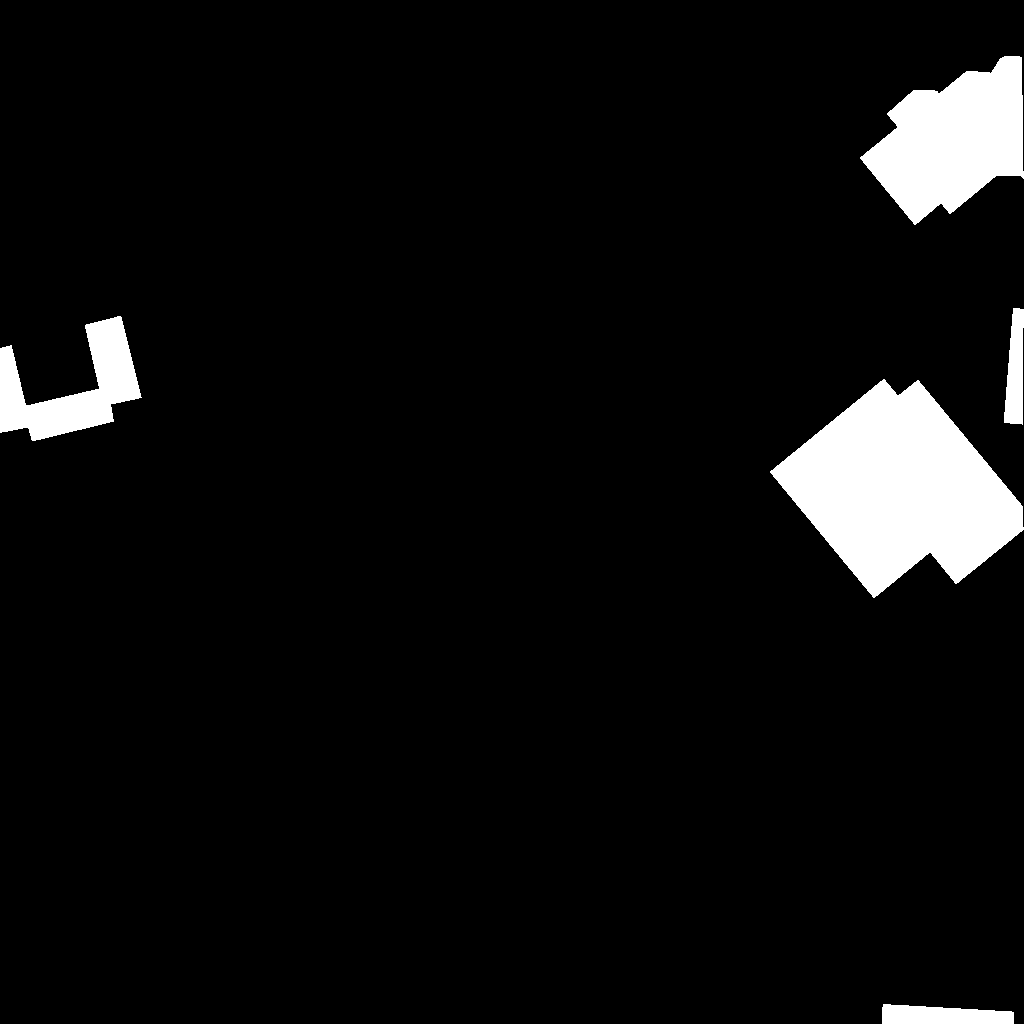building: (770, 379, 1024, 599), (860, 56, 1024, 226), (0, 316, 142, 442), (882, 1004, 1015, 1024), (1004, 308, 1024, 425)
